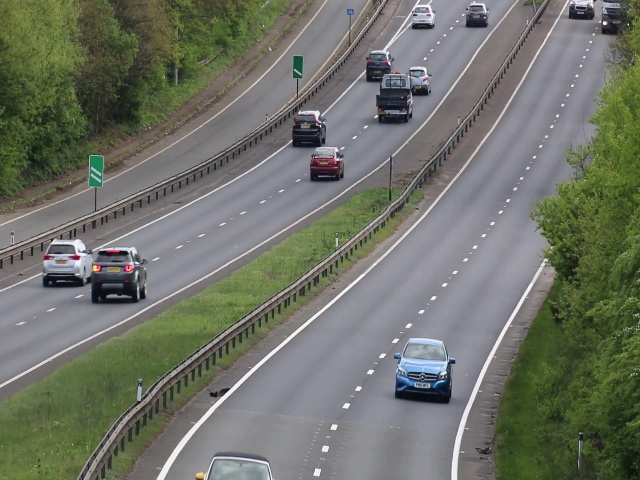car: (395, 337, 452, 405), (90, 247, 149, 303), (40, 237, 94, 284), (203, 451, 272, 480), (377, 76, 412, 122), (290, 109, 328, 146), (309, 146, 347, 180), (365, 50, 394, 82), (409, 64, 431, 96), (410, 3, 437, 29), (465, 4, 489, 29)
